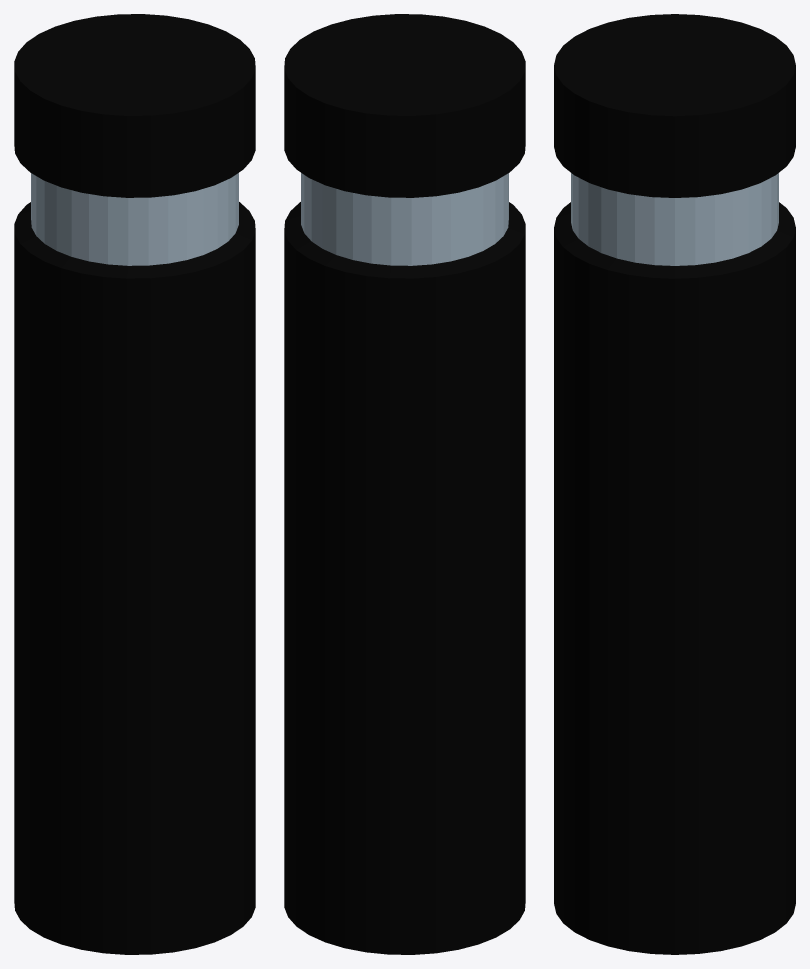
Rendered from Hierroparking.fbx.
The picture shows the model from 3 angles, left to right: view 1: azimuth 30°, elevation 25°; view 2: azimuth 150°, elevation 25°; view 3: azimuth 270°, elevation 25°; orthographic projection.
Visible parts, largest first — view 1: barrera de metal; view 2: barrera de metal; view 3: barrera de metal.
Boxes of the visible parts, x1,y1,x2,y2 form: barrera de metal: (14, 14, 255, 954); barrera de metal: (284, 14, 525, 954); barrera de metal: (554, 14, 795, 954).
Size of the model in its own units: 125 by 479 by 125.
